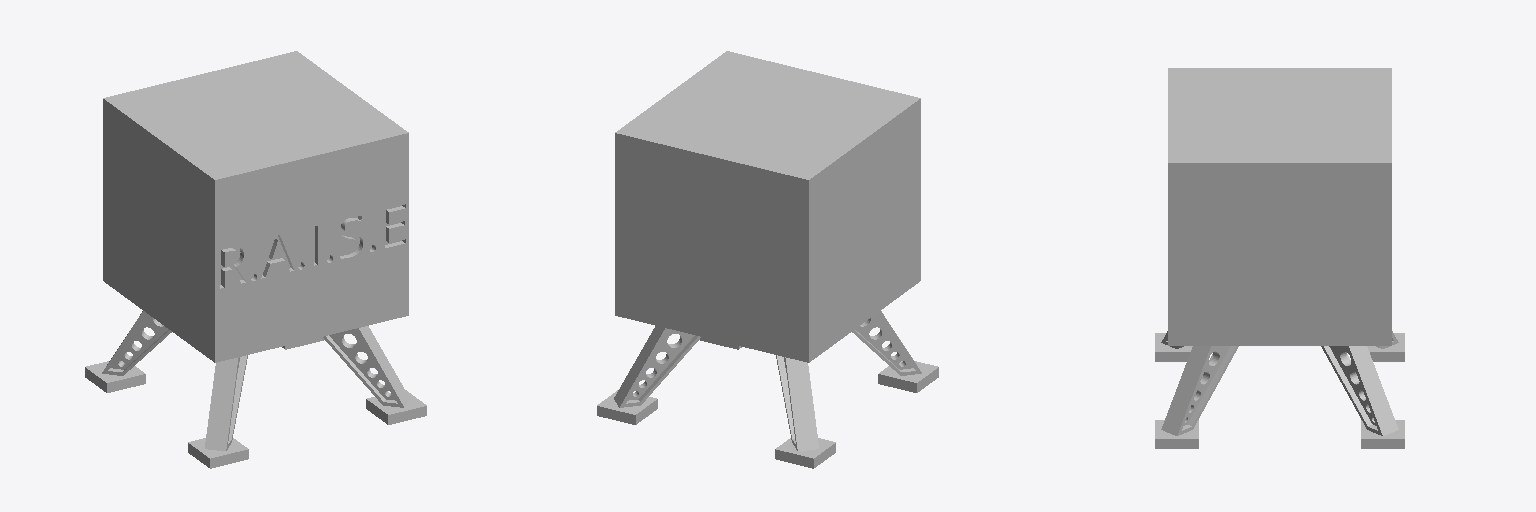
The model's file is station_2.obj.
The picture shows the model from 3 angles: view 1: azimuth 30°, elevation 25°; view 2: azimuth 150°, elevation 25°; view 3: azimuth 270°, elevation 25°; orthographic projection.
Parts seen in each view (by area): view 1: mesh101, mesh58, mesh55, mesh29, mesh85, mesh10, mesh39, mesh38, mesh15; view 2: mesh57, mesh58, mesh55, mesh16, mesh93, mesh77, mesh49, mesh51, mesh28; view 3: mesh56, mesh58, mesh39, mesh49.
Boxes of the visible parts, x1,y1,x2,y2 form: mesh101: [215, 133, 408, 362]; mesh58: [103, 51, 408, 179]; mesh55: [103, 99, 214, 362]; mesh29: [205, 357, 238, 450]; mesh85: [329, 329, 395, 400]; mesh10: [110, 313, 168, 369]; mesh39: [359, 326, 409, 407]; mesh38: [323, 328, 403, 407]; mesh15: [102, 311, 171, 375]; mesh57: [615, 133, 808, 362]; mesh58: [615, 51, 920, 179]; mesh55: [809, 99, 920, 362]; mesh16: [785, 357, 818, 450]; mesh93: [628, 329, 694, 400]; mesh77: [855, 313, 913, 369]; mesh49: [614, 326, 664, 407]; mesh51: [620, 328, 700, 407]; mesh28: [852, 311, 921, 375]; mesh56: [1168, 163, 1391, 345]; mesh58: [1168, 68, 1391, 162]; mesh39: [1161, 346, 1210, 435]; mesh49: [1349, 346, 1398, 435].
Size of the model in its own units: 0.1119 by 0.1383 by 0.1119.